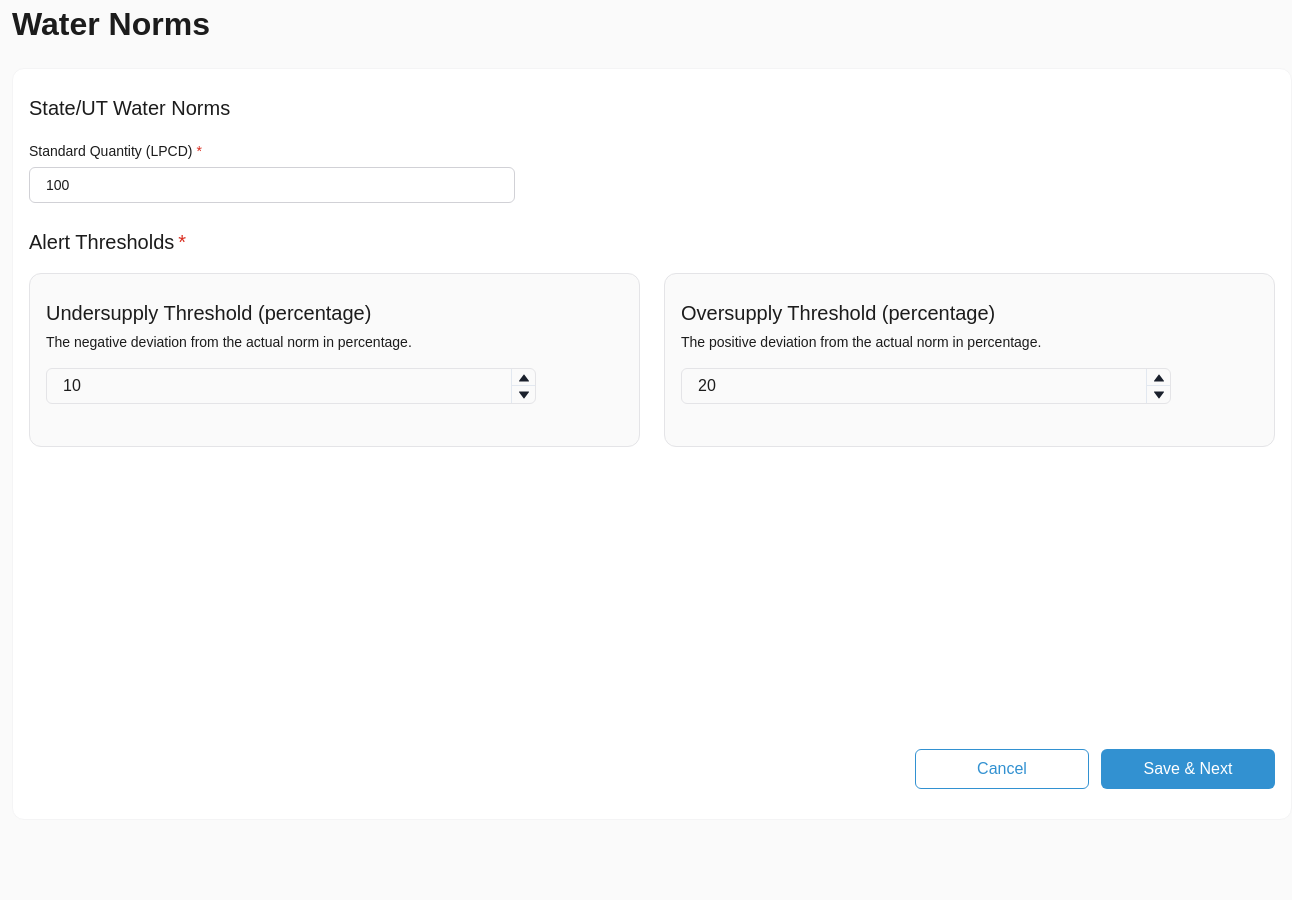
it: WaterNormsPage › shows inline error for empty state quantity on save
This screenshot has width=1292, height=900.
Clear the pre-filled value
Clear the number field labelled "Standard Quantity (LPCD)*" at (272, 185), box [29,167,515,203]
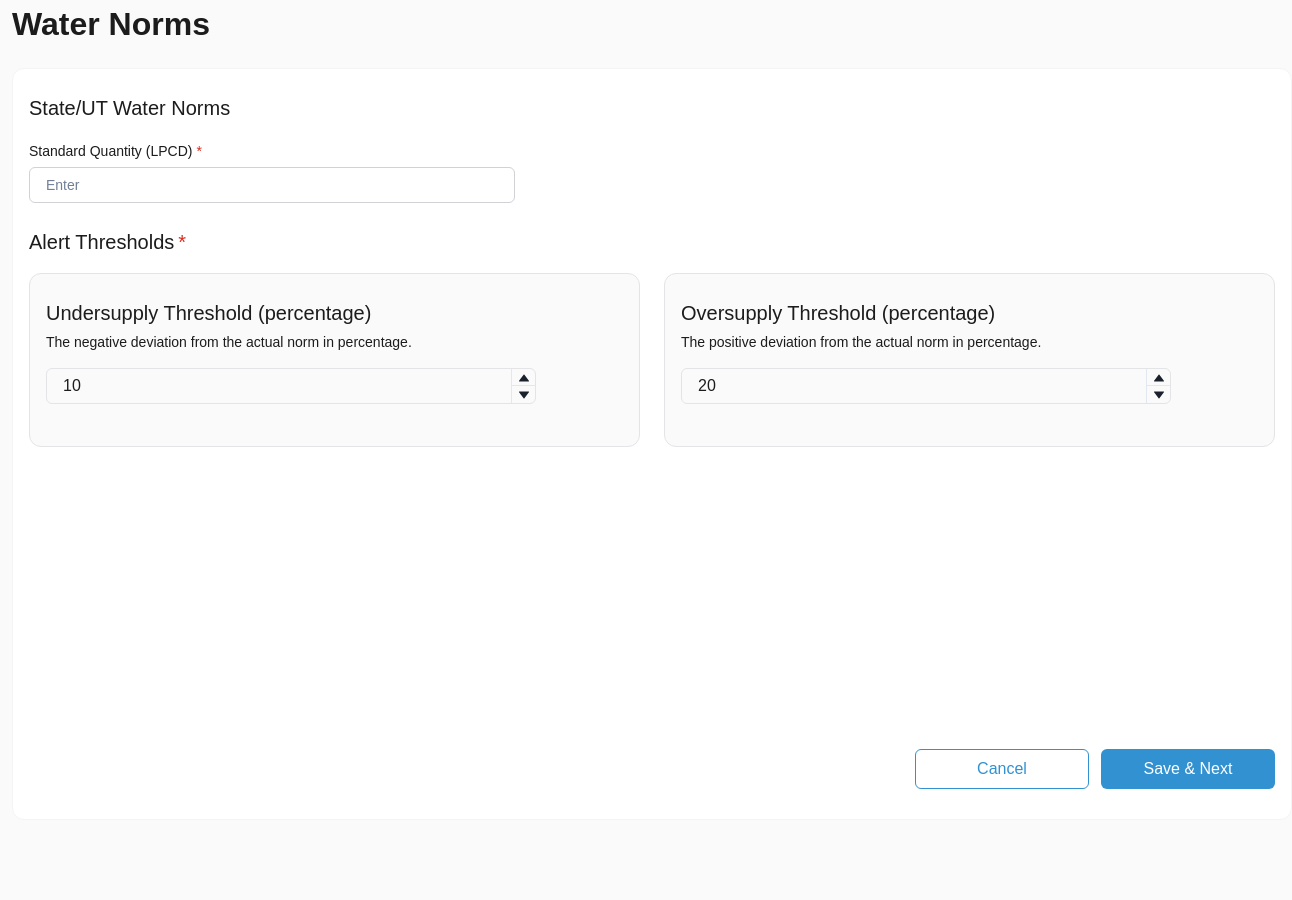
Click the button "Save & Next" at (1188, 769), box [1101,749,1275,789]
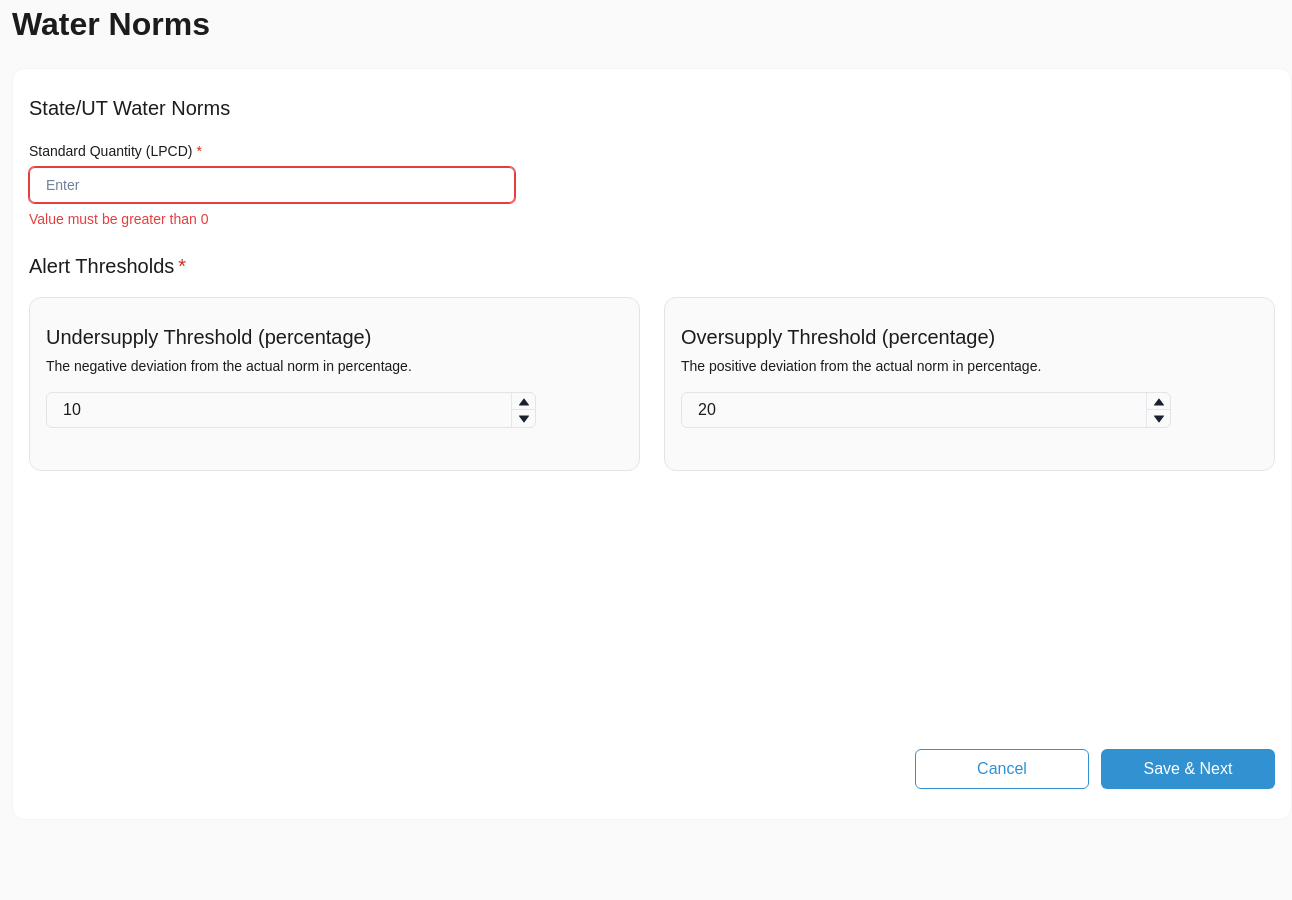
Result: the text "Value must be greater than 0" is shown at [29,211,208,227]
